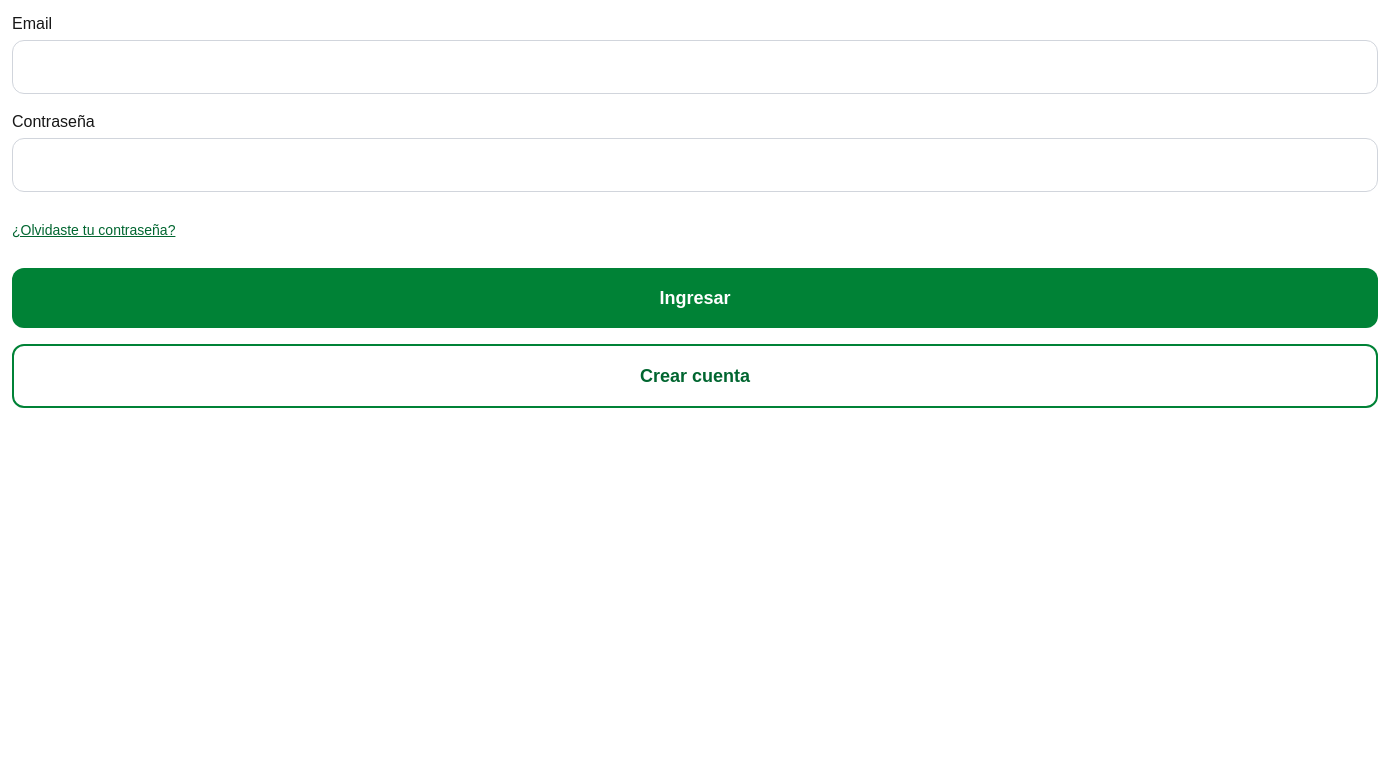
it: LoginForm › muestra éxito al registrarse
Click the button "Crear cuenta" at (695, 376), box [12,344,1378,408]
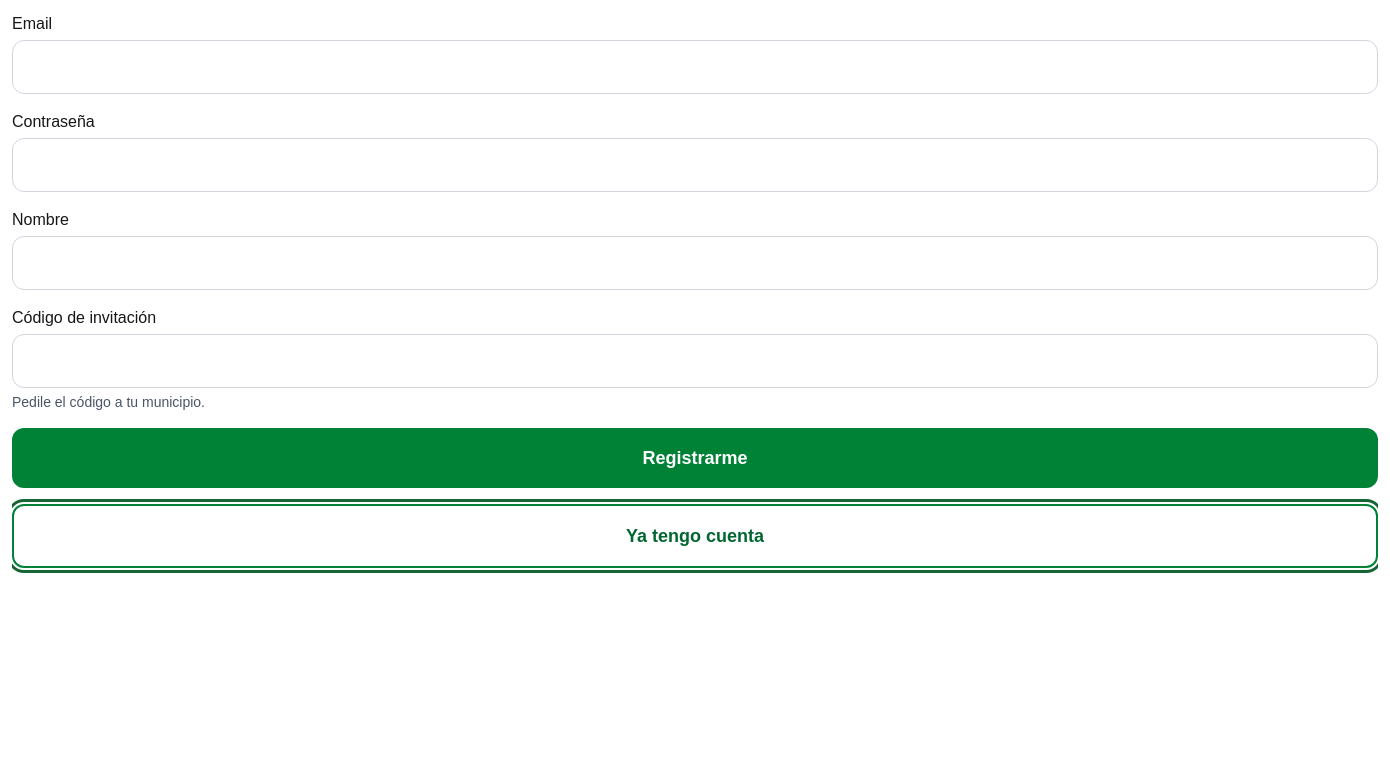
Type "a@b.com" into the field labelled "Email" at (695, 67), box [12,40,1378,94]
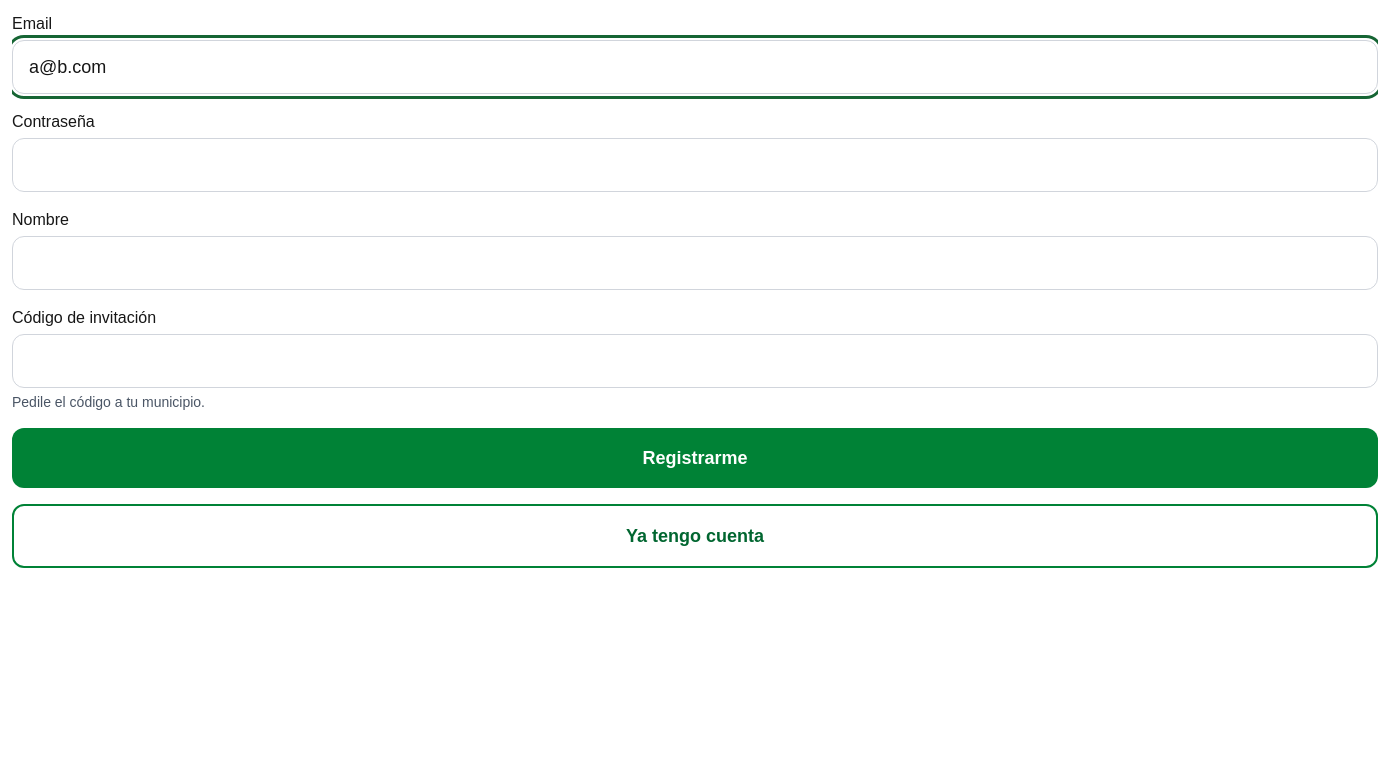
Type "12345678" into the password field labelled "Contraseña" at (695, 165), box [12,138,1378,192]
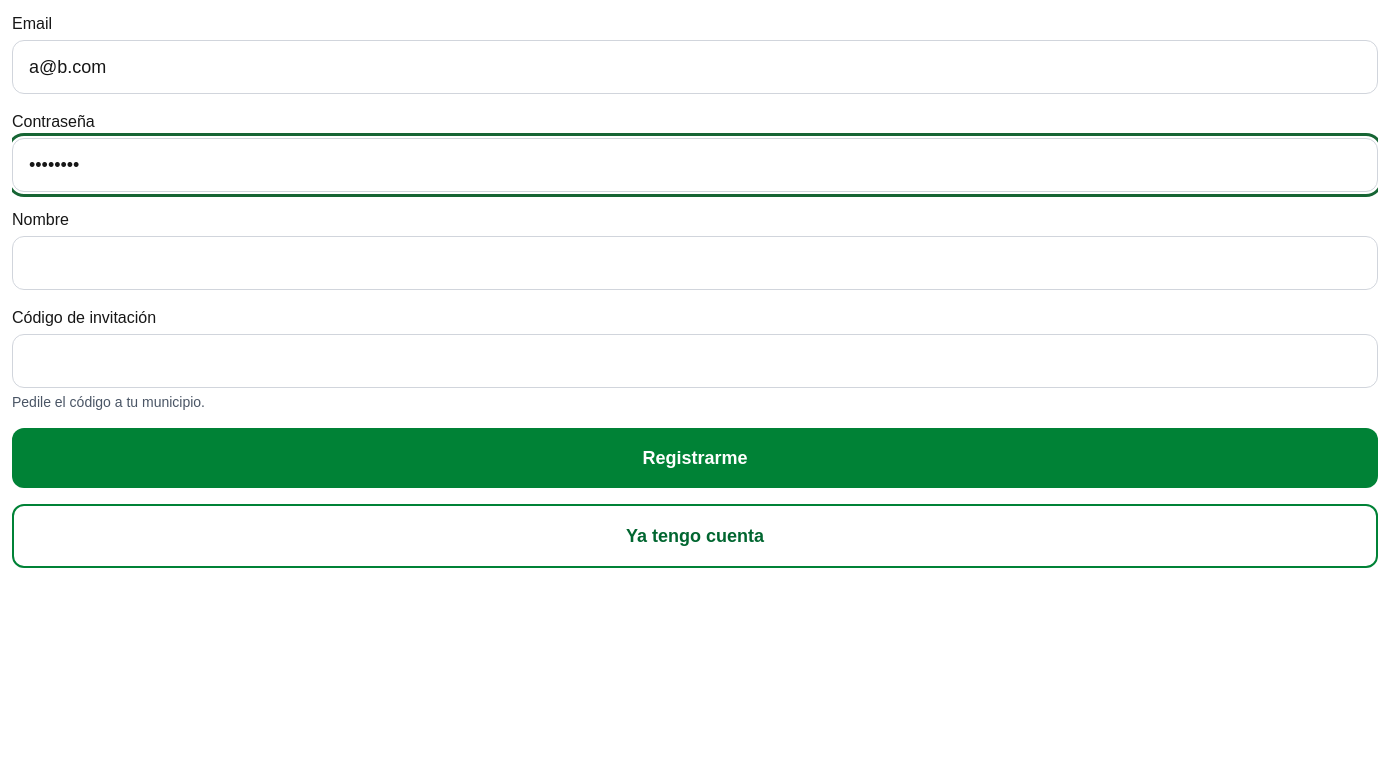
Type "Ana" into the field labelled "Nombre" at (695, 263), box [12,236,1378,290]
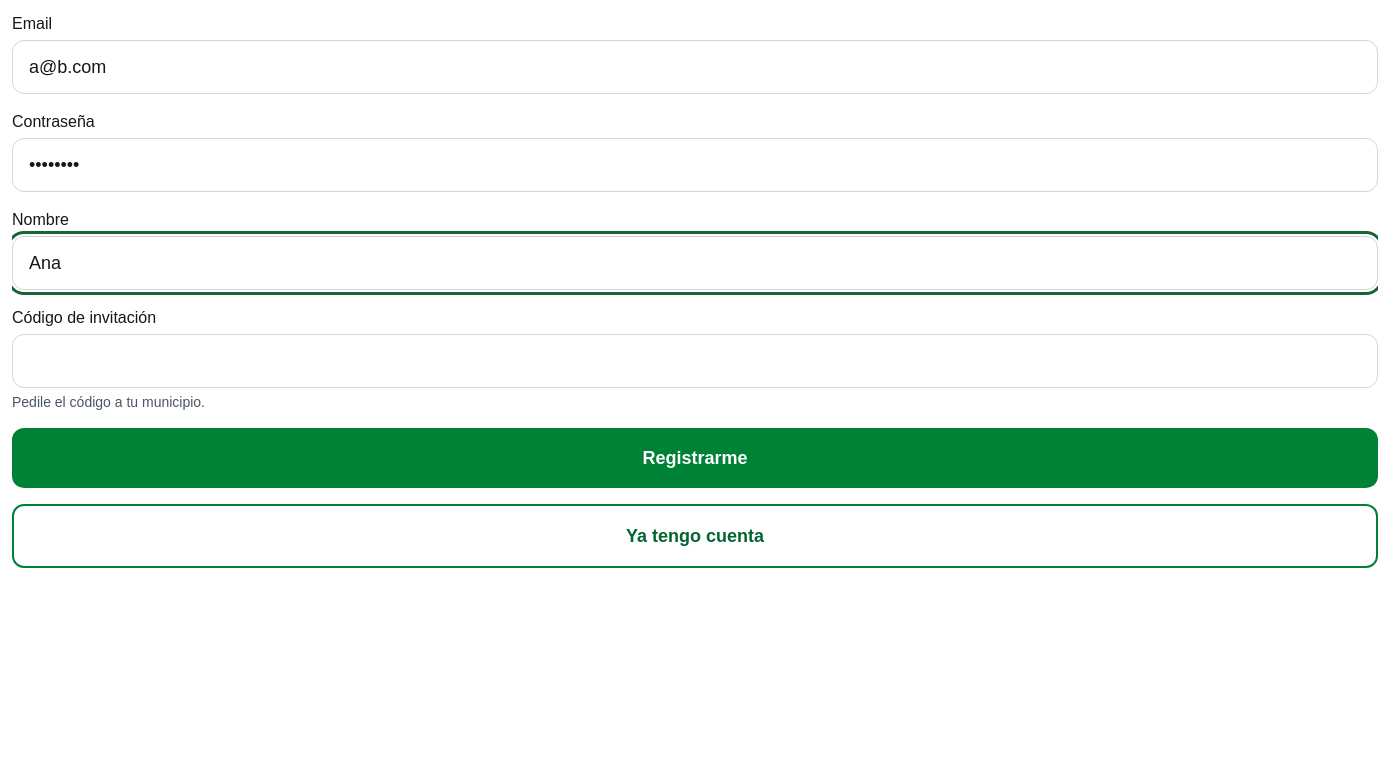
Type "MAIPU-2027" into the field labelled "Código de invitación Pedile el código a tu municipio." at (695, 361), box [12,334,1378,388]
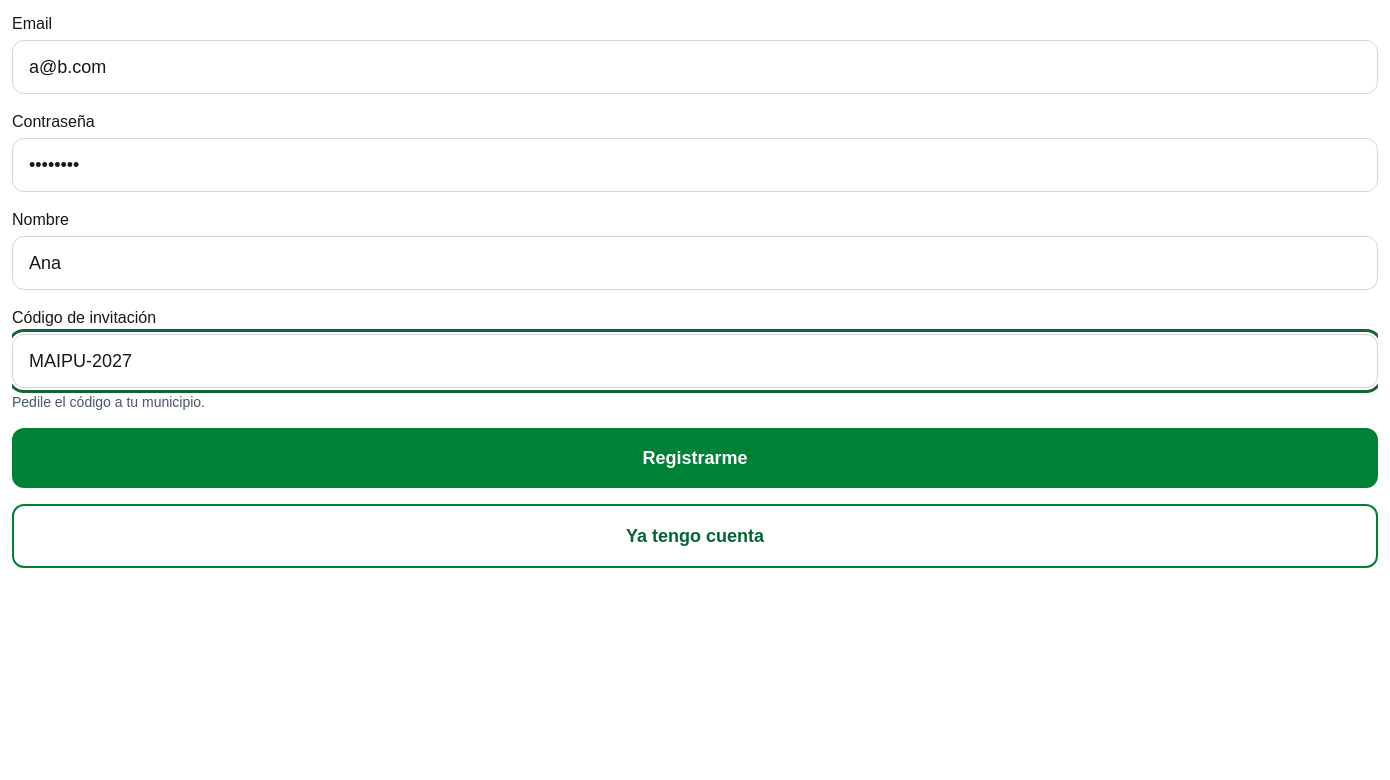
Click the button "Registrarme" at (695, 458), box [12,428,1378,488]
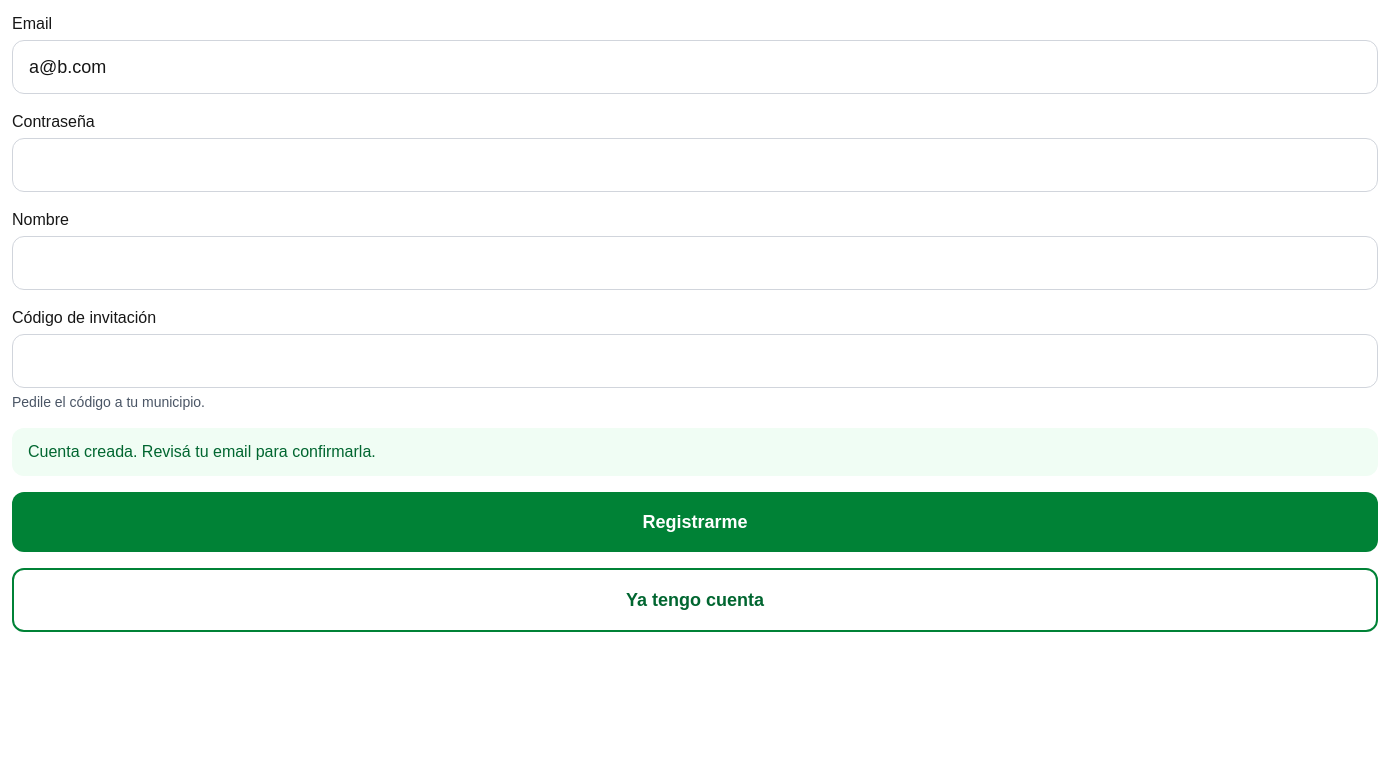
Now the message shows "Cuenta creada", box [28,443,376,460]
